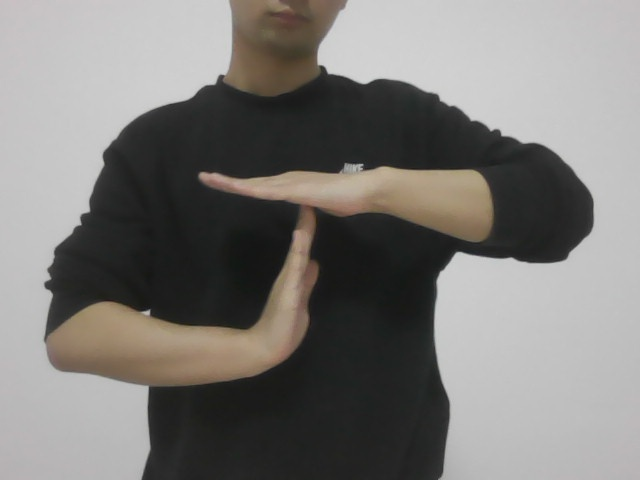stop: (170, 159, 402, 386)
